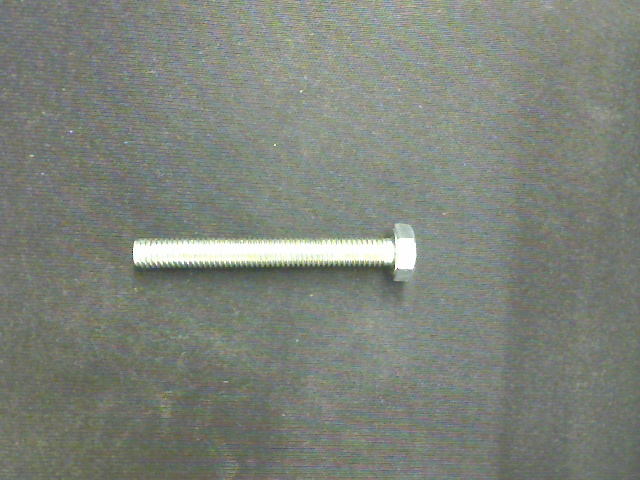Screw: (134, 224, 415, 283)
